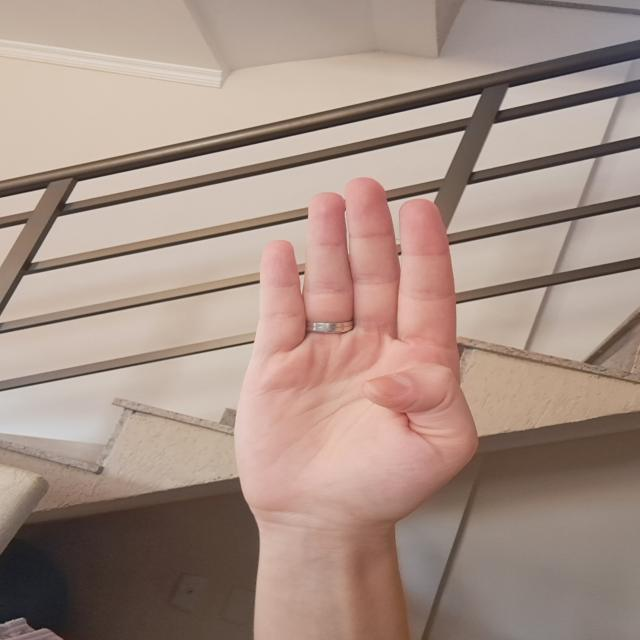B: (236, 170, 492, 520)
